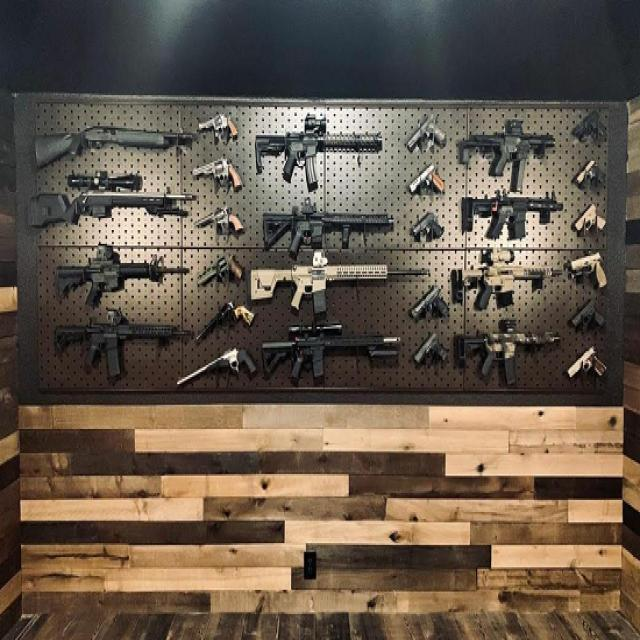HandGun: (178, 349, 256, 384), (202, 301, 253, 336), (191, 157, 243, 190), (568, 254, 606, 289), (201, 253, 243, 282), (408, 289, 446, 318), (407, 166, 442, 194), (567, 349, 604, 374), (197, 208, 243, 228), (405, 123, 443, 147), (201, 116, 240, 138), (574, 204, 607, 230), (417, 337, 450, 362), (574, 303, 605, 329), (412, 213, 443, 239), (574, 161, 607, 185), (575, 112, 609, 133)
Rifle: (253, 263, 427, 315), (56, 310, 180, 382), (37, 175, 194, 225), (254, 135, 383, 194), (58, 242, 169, 308), (263, 325, 398, 379), (264, 201, 392, 251), (454, 318, 539, 384), (454, 247, 535, 310), (462, 199, 557, 244)
SMG: (457, 119, 555, 194)
